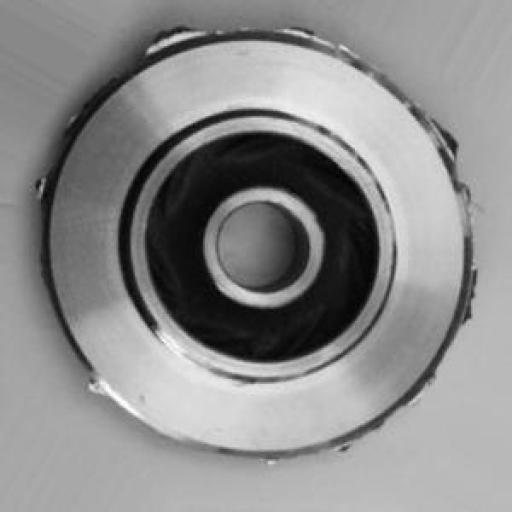defect: (17, 19, 487, 481)
